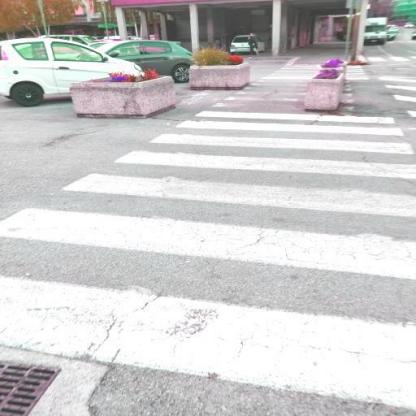crosswalk: (2, 203, 415, 410), (140, 118, 415, 162)
